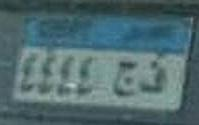4: (77, 54, 97, 101), (57, 54, 74, 97), (38, 54, 55, 96), (20, 53, 36, 93)
faa: (138, 59, 167, 98)
jeem: (113, 58, 137, 100)
